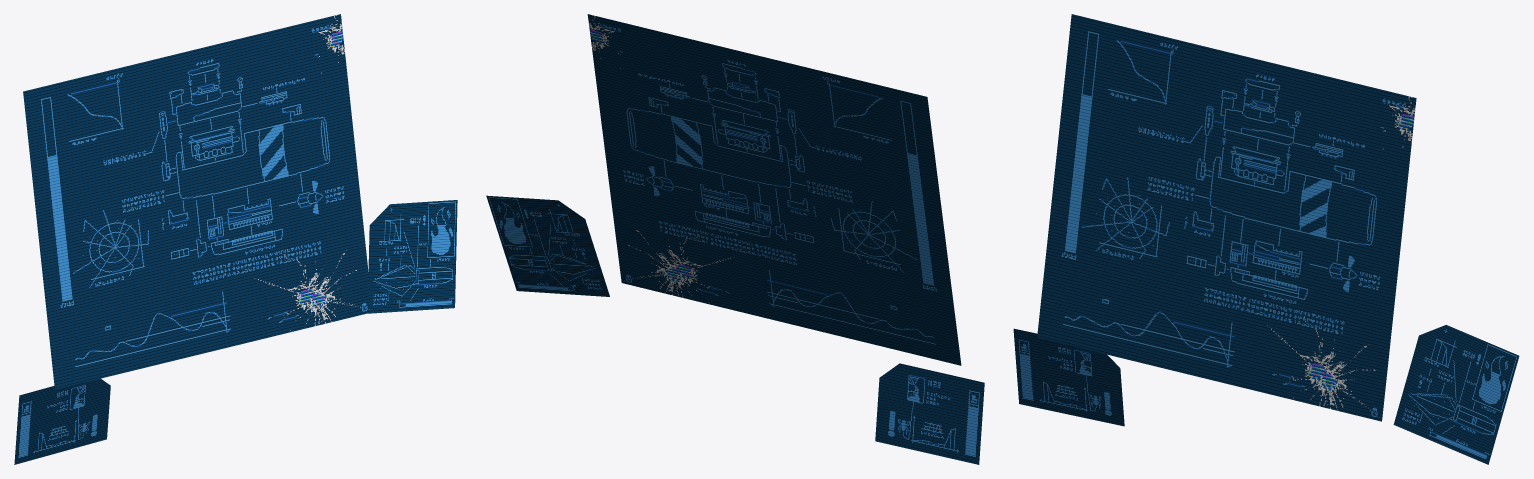
Rendered from Engine Screens.fbx.
3 views of the same model, side by side, from view 1: azimuth 30°, elevation 25°; view 2: azimuth 150°, elevation 25°; view 3: azimuth 330°, elevation 25° (orthographic). The views are drawn at different scales.
Visible parts, largest first — view 1: Engine_B, Engine_M, Engine_S; view 2: Engine_B, Engine_M, Engine_S; view 3: Engine_B, Engine_M, Engine_S.
Boxes of the visible parts, x1,y1,x2,y2 form: Engine_B: [23, 14, 372, 389]; Engine_M: [368, 200, 457, 313]; Engine_S: [14, 378, 110, 464]; Engine_B: [587, 14, 961, 365]; Engine_M: [486, 195, 609, 296]; Engine_S: [875, 363, 984, 464]; Engine_B: [1037, 14, 1416, 421]; Engine_M: [1393, 325, 1519, 464]; Engine_S: [1013, 328, 1124, 426].
Size of the model in its own units: 220 by 164 by 26.87.
